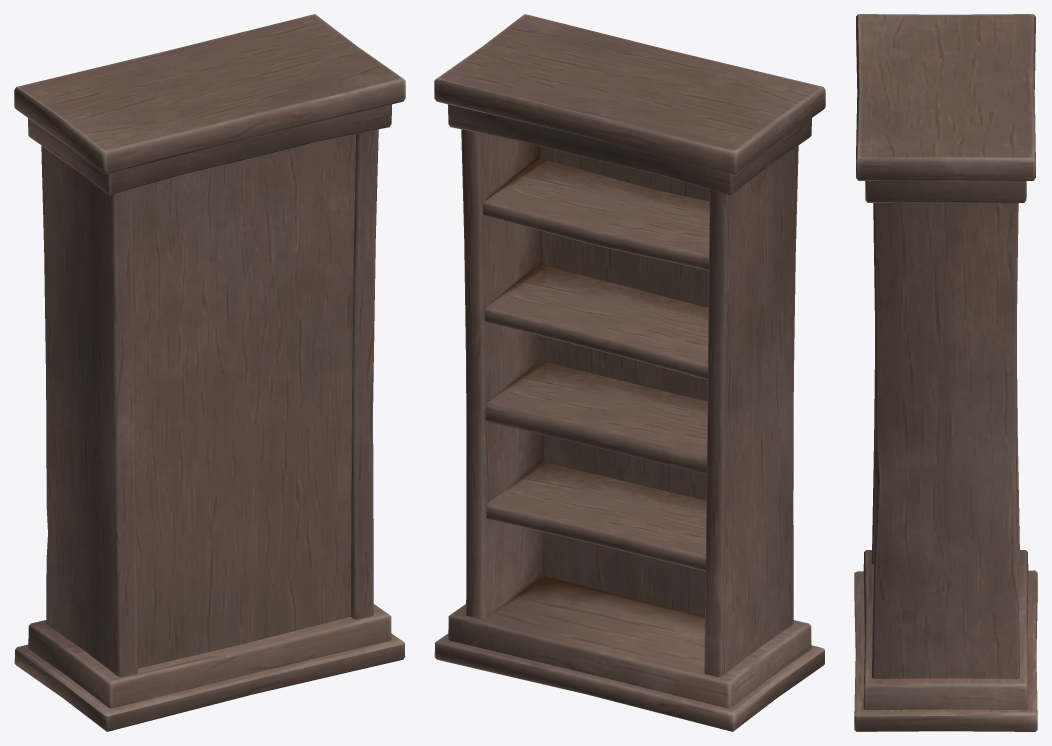
The picture shows the model from 3 angles, left to right: view 1: azimuth 30°, elevation 25°; view 2: azimuth 150°, elevation 25°; view 3: azimuth 270°, elevation 25°; orthographic projection.
Parts seen in each view (by area): view 1: submesh_0; view 2: submesh_0; view 3: submesh_0.
Boxes of the visible parts, box(x1,y1,x2,y2) form: submesh_0: box(14, 14, 405, 731); submesh_0: box(434, 14, 825, 731); submesh_0: box(854, 14, 1037, 731).
Size of the model in its own units: 1.55 by 2.84 by 0.8231.
1 material, 1 textured.
